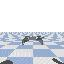drone: (22, 36, 44, 45)
